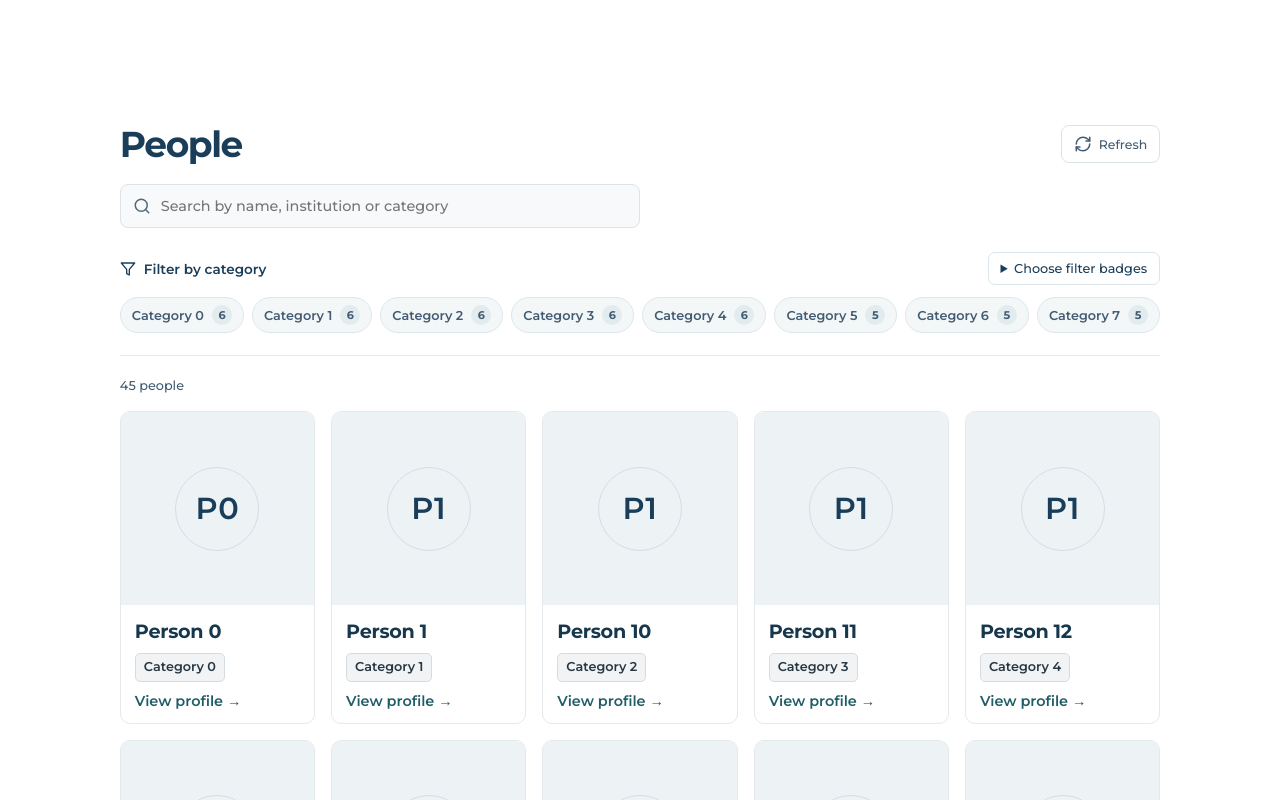
Test: deselecting a dropdown option removes its badge and active people filter
The image size is (1280, 800).
What coordinates should you click on to do the following:
click the button "Category 0 6"
I would click on:
 (182, 315)
Its box is [120,297,244,333].
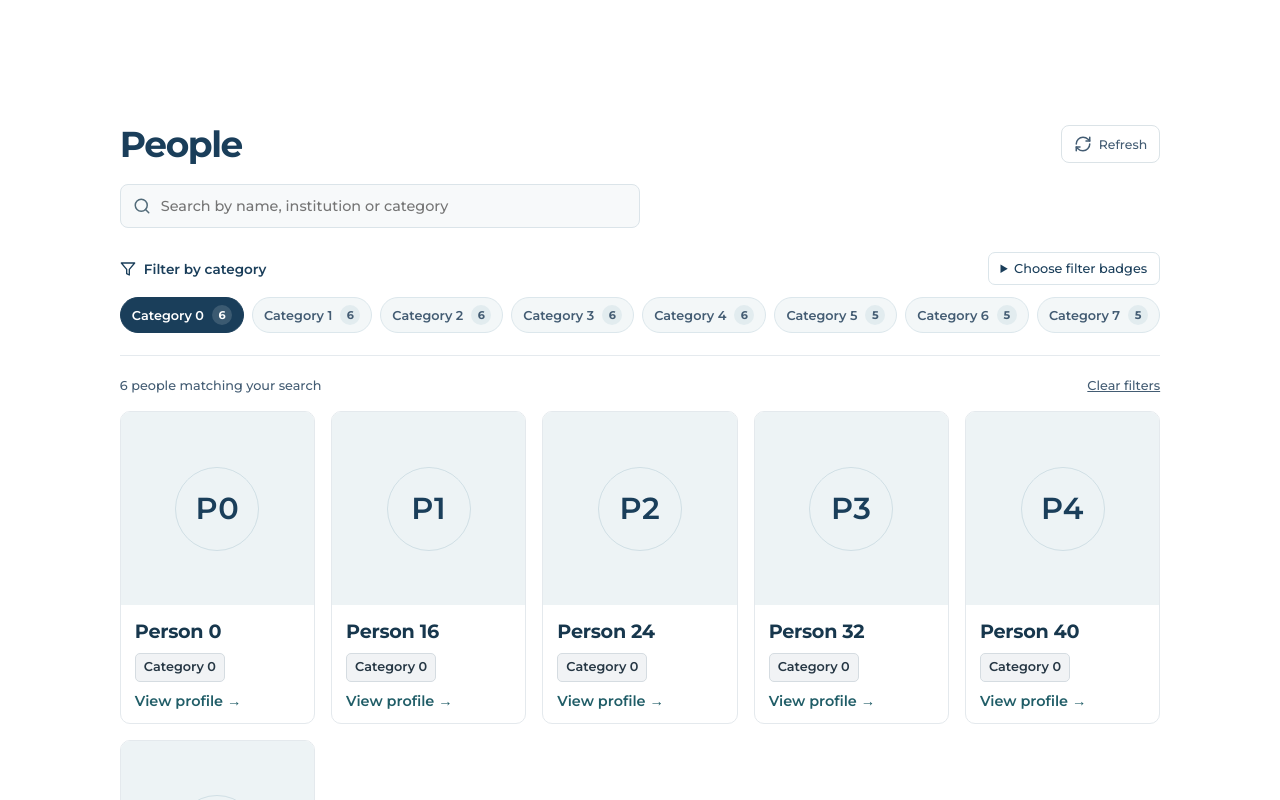
What coordinates should you click on to do the following:
click the heading "Choose filter badges"
I would click on:
 (1074, 268)
Its box is [988,252,1160,285].
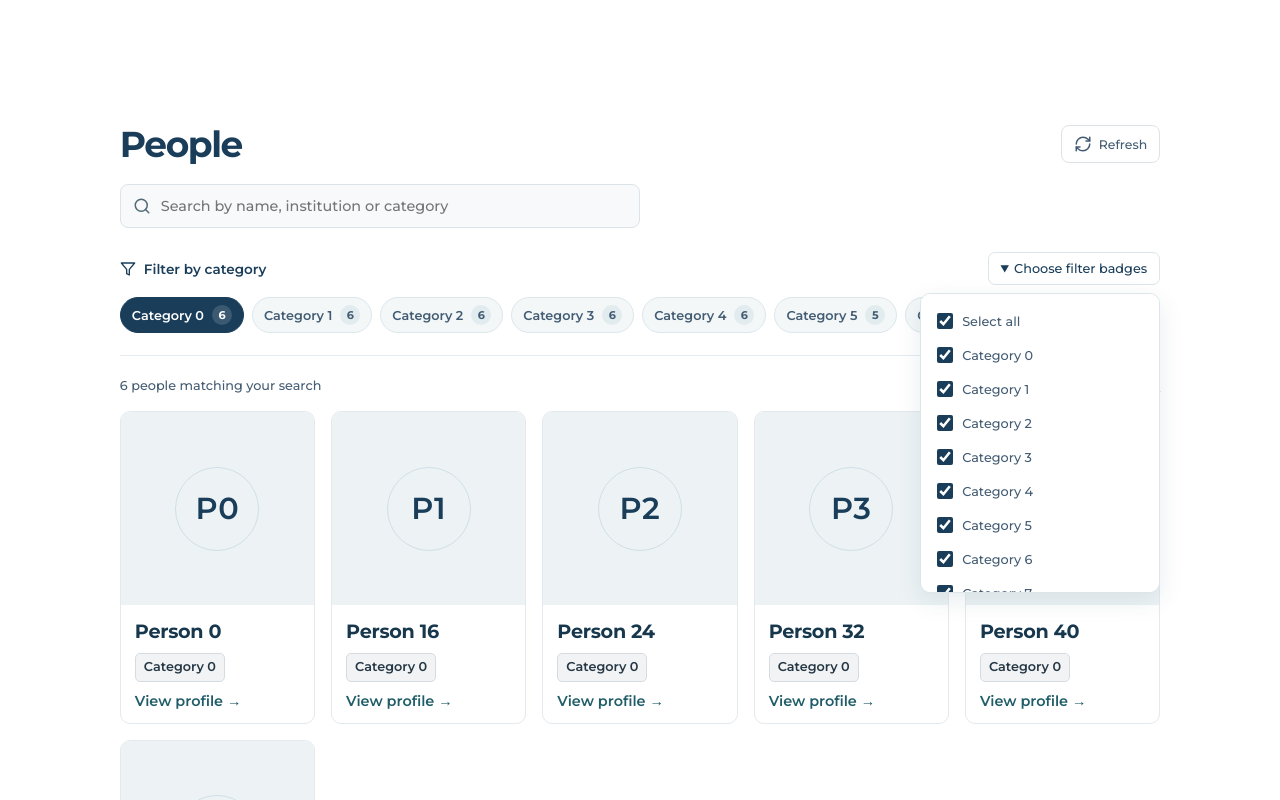
What coordinates should you click on to do the following:
click the checkbox labelled "Category 0"
I would click on:
 (945, 355)
Its box is [937,347,953,363].
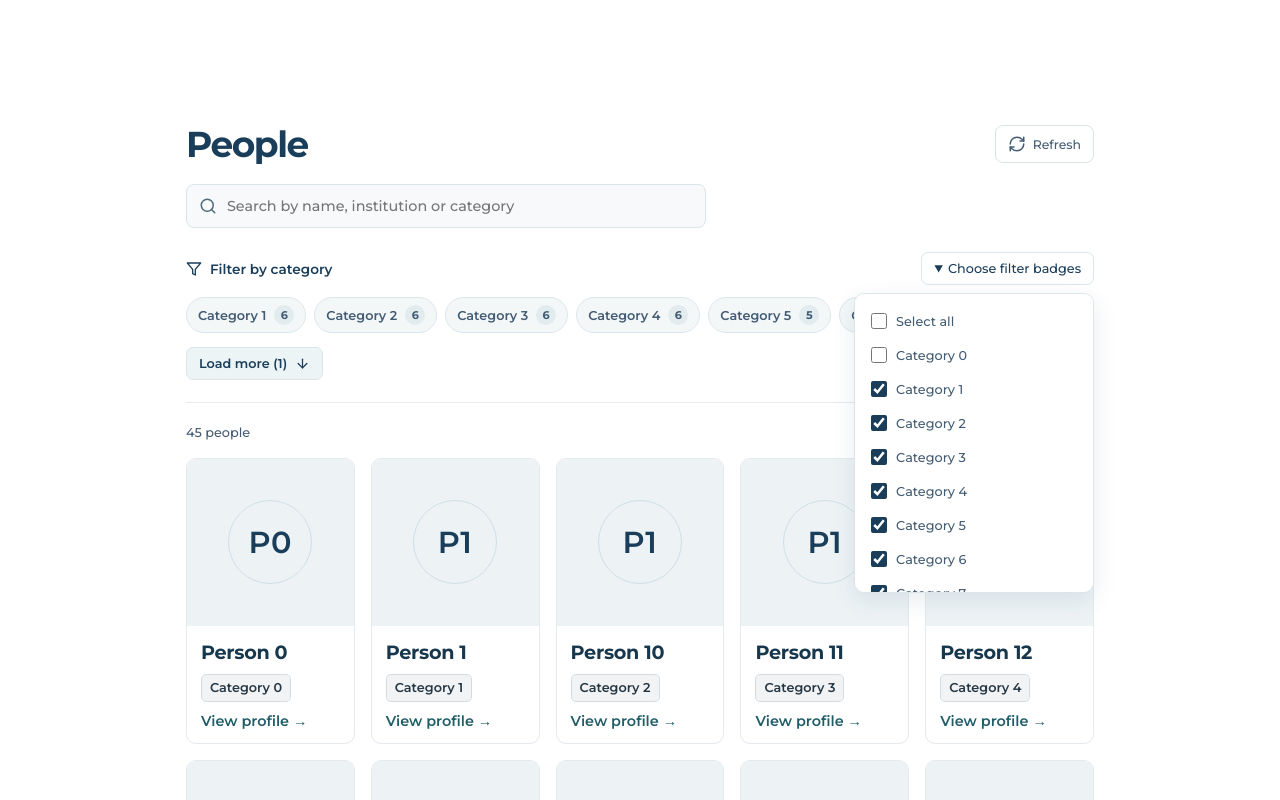
Result: the checkbox labelled "Category 0" is not checked at [871,347,887,363]
Result: the number of links is 20
